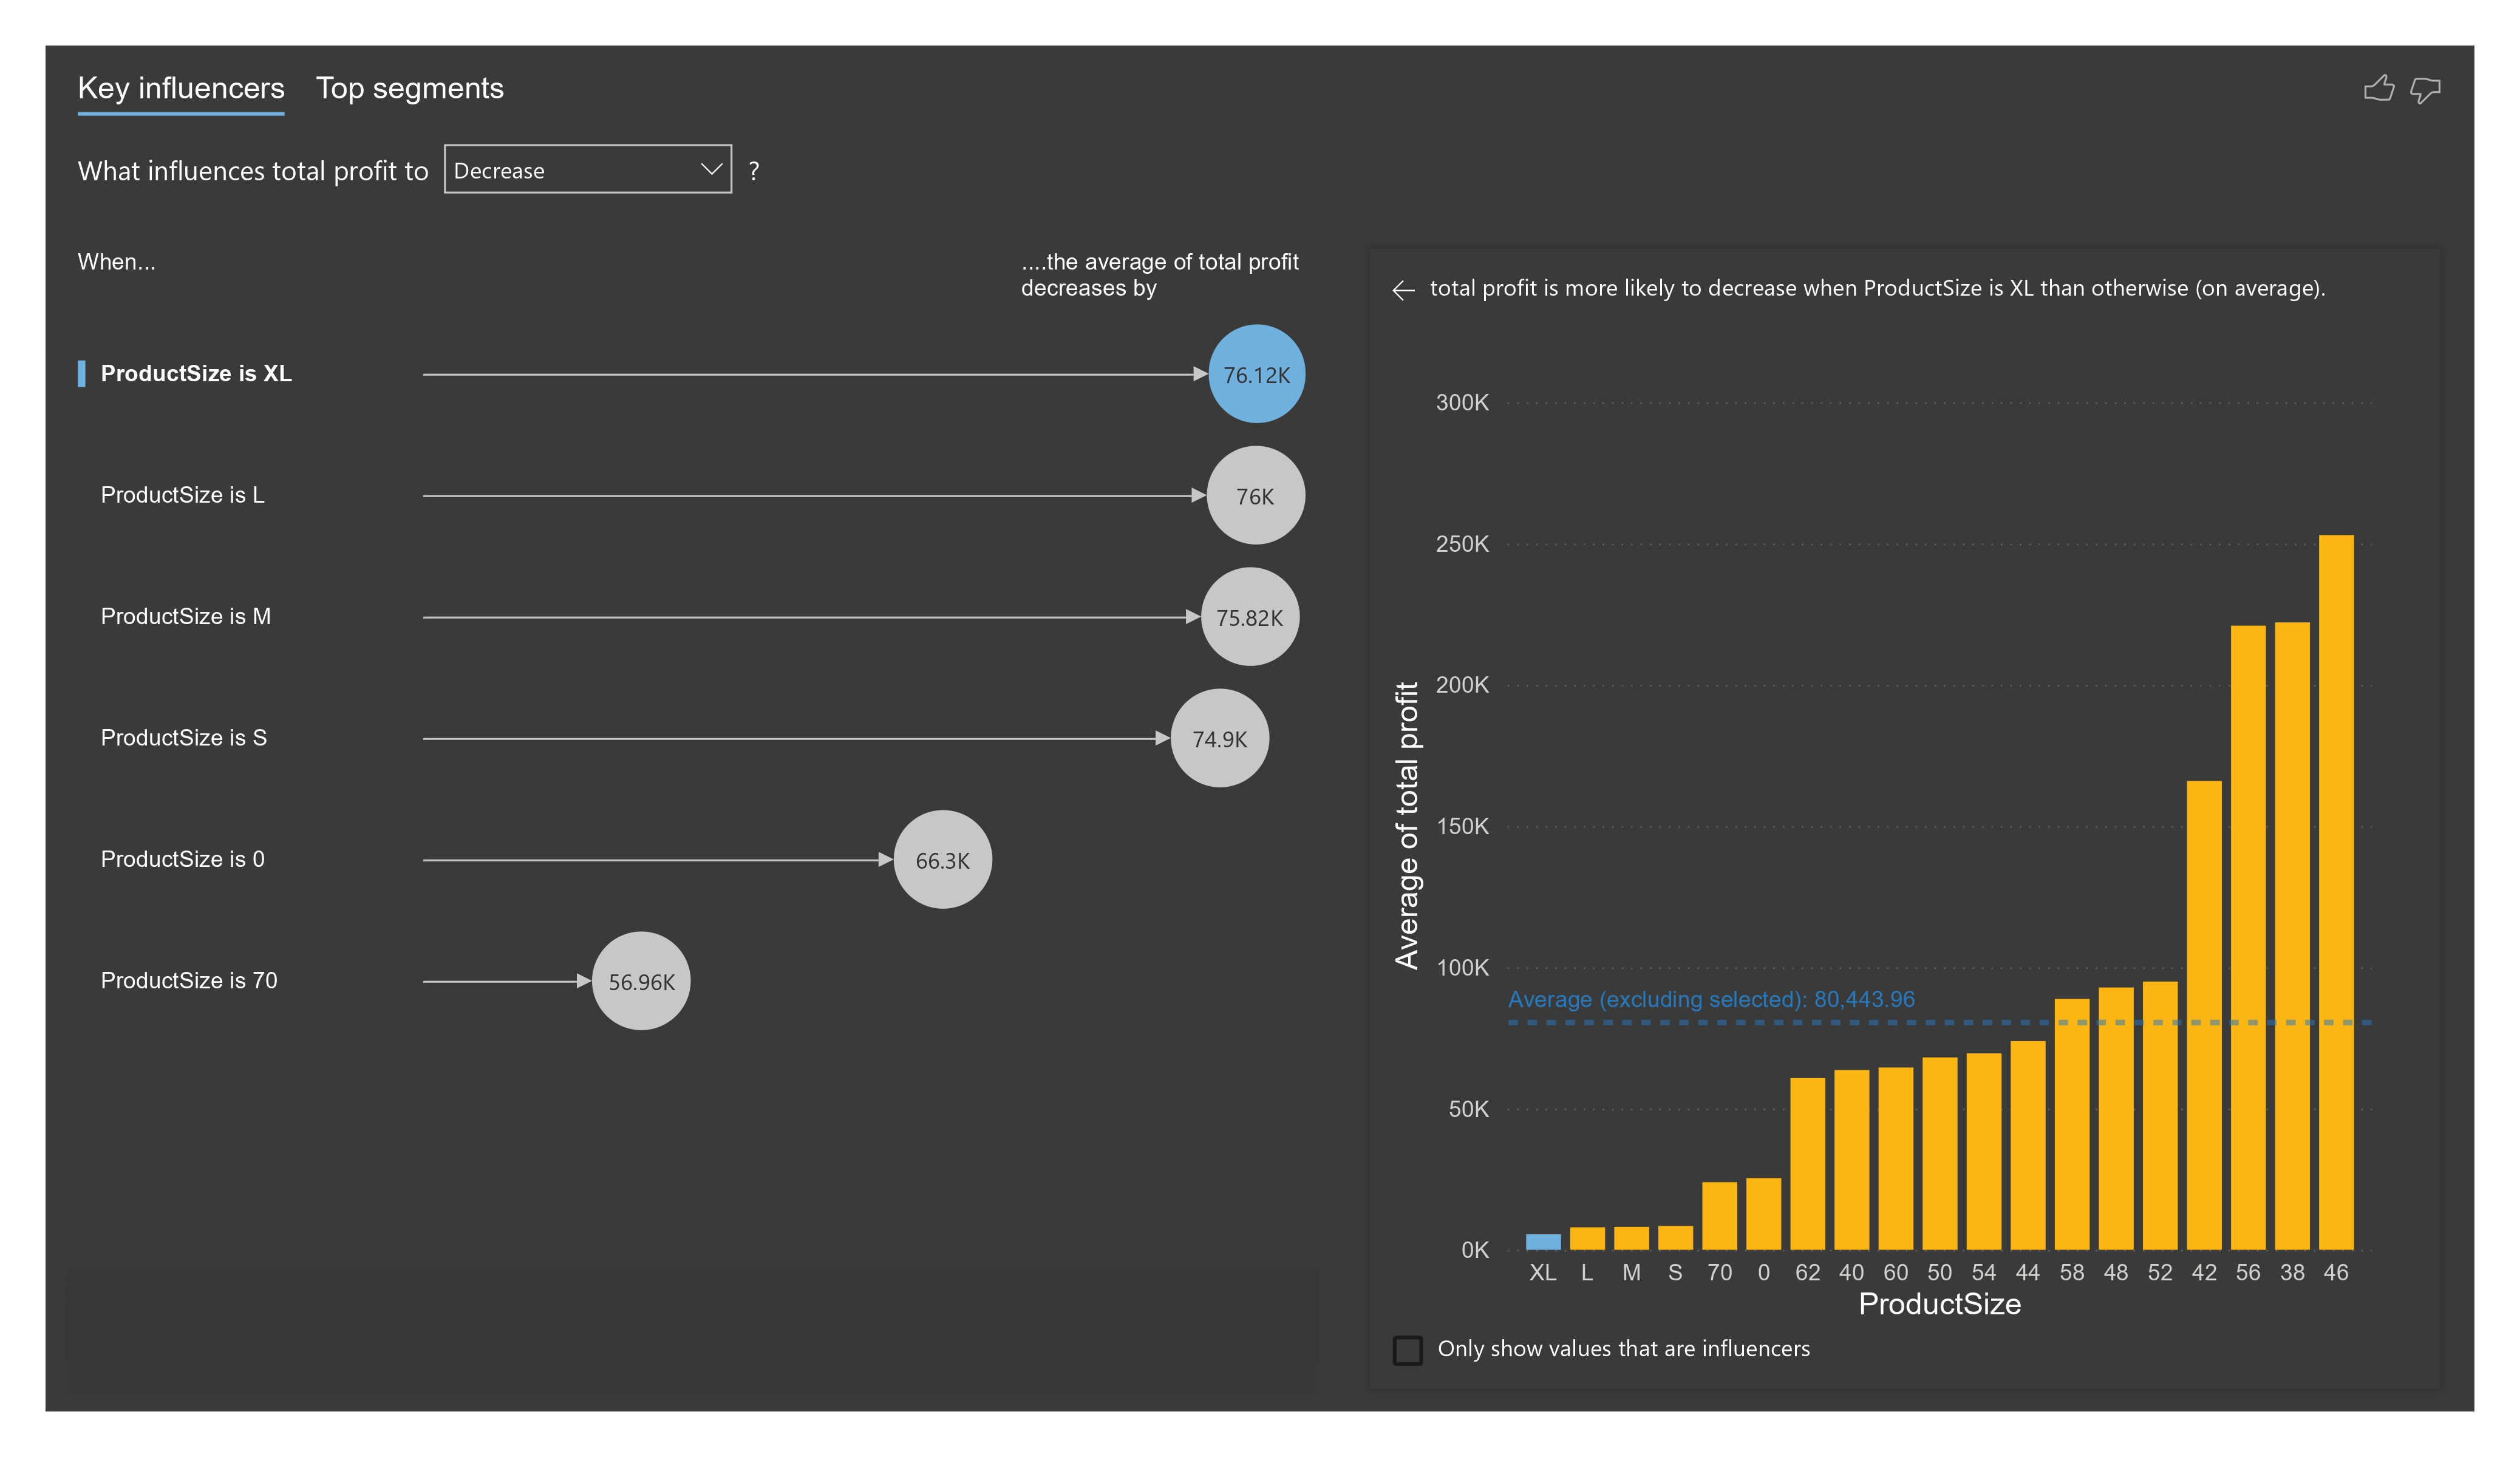

This screenshot's page, from the dashboard's own definition file:
{"tool":"powerbi","page":{"name":"Page 2","canvas":[1280,720],"ordinal":4},"visuals":[{"type":"keyDriversVisual","fields":{"ExplainBy":["AW_Products_lookup.ProductSize","AW_Territories_lookup.Country","AW_Territories_lookup.Region","AW_Products_lookup.ProductName"],"Target":["AW_Sales_lookup.total profit"],"Details":["AW_Subcategories_lookup.SubcategoryName"]},"box":[0,0,1279.4,720.6],"z":0}]}

Visuals, with their boxes on the page's 1280x720 design canvas (x1, y1, x2, y2). These are canvas units, not pixel positions in the 2520x1457 screenshot, which may show the page scaled, cropped or inside an application window:
keyDriversVisual - AW_Products_lookup.ProductSize x AW_Territories_lookup.Country: detection(0, 0, 1279, 721)
